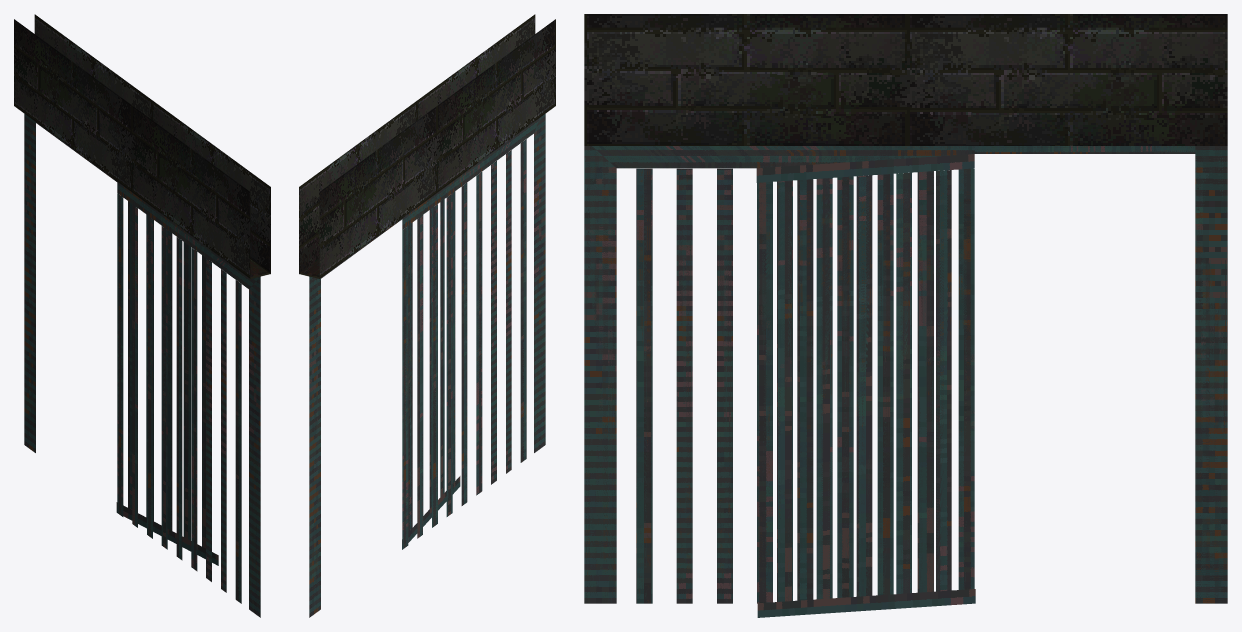
The model's file is BarsLowDoor.glb.
3 renders of one model, left to right at view 1: azimuth 30°, elevation 25°; view 2: azimuth 150°, elevation 25°; view 3: azimuth 270°, elevation 25°, orthographic. The views are drawn at different scales.
Parts seen in each view (by area): view 1: BarsLowDoor; view 2: BarsLowDoor; view 3: BarsLowDoor.
Part boxes in pixels (x1,y1,x2,y2): BarsLowDoor: (14,14,270,617); BarsLowDoor: (299,14,555,617); BarsLowDoor: (584,14,1227,617).
Size of the model in its own units: 0.3121 by 4 by 4.
2 materials, 2 textured.
